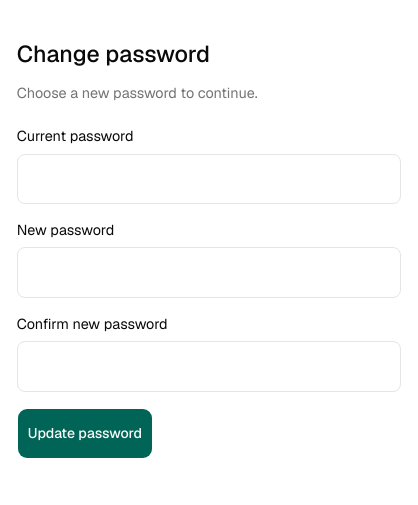
Scenario: change-password form › keeps fields visible and shows VALIDATION message
Type "old-pass" into the password field labelled "Current password".
click(209, 179); type("old-pass")  # box [17,154,401,204]
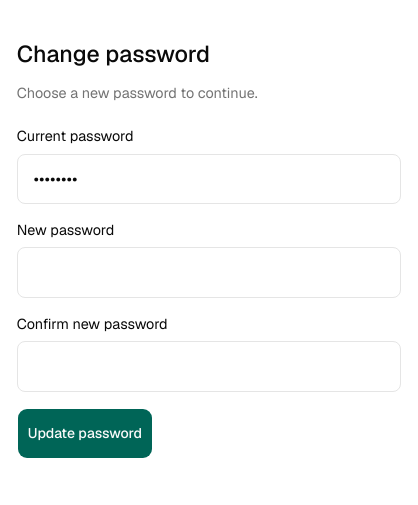
Type "short" into the password field labelled "New password".
click(209, 273); type("short")  # box [17,247,401,298]
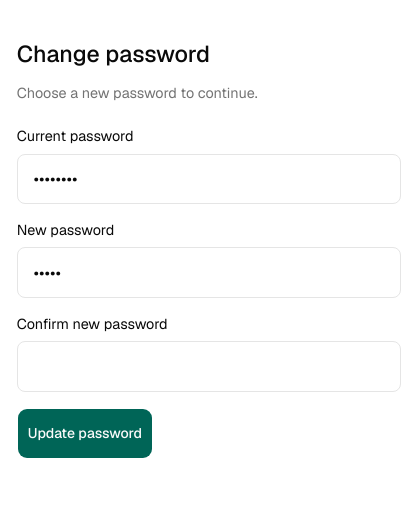
Type "short" into the password field labelled "Confirm new password".
click(209, 367); type("short")  # box [17,341,401,392]
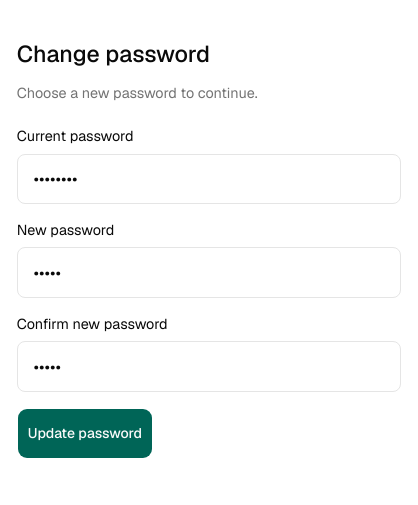
Click the button "Update password".
click(85, 433)  # box [17,408,153,459]
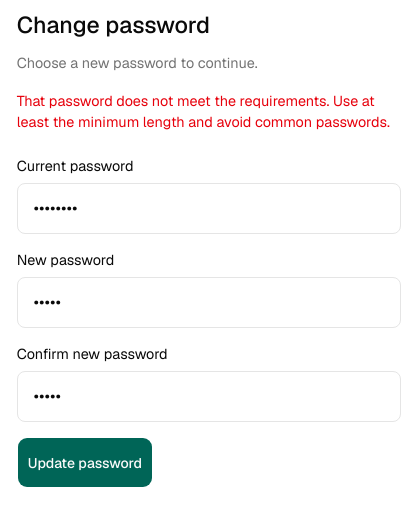
Check: the button "Update password" is shown, box [17,437,153,488]
Check: the message shows "That password does not meet the requirements. Use at least the minimum length and avoid common passwords.", box [17,92,390,131]
